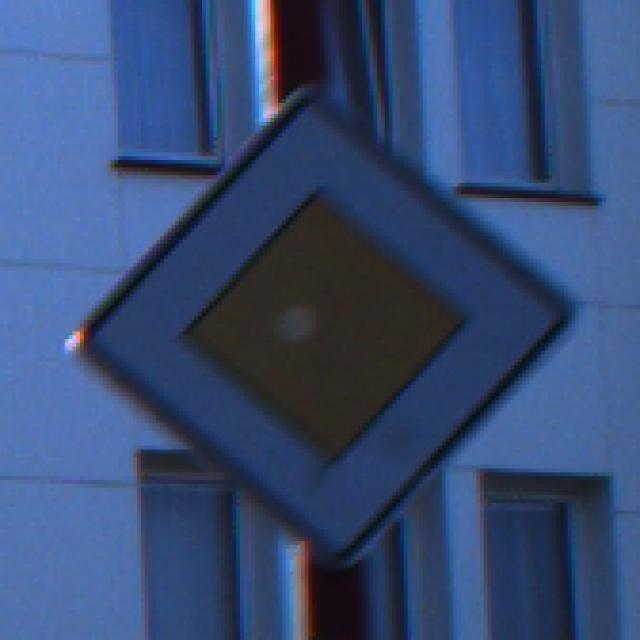Main Road: (54, 54, 588, 588)
